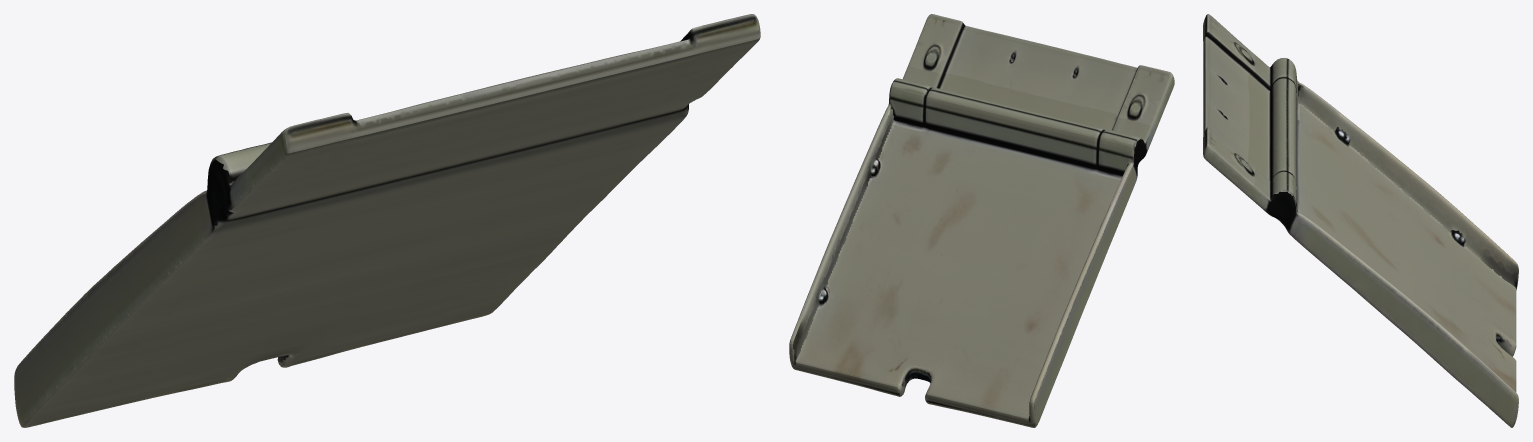
Rendered from roof-hatch.glb.
3 views of the same model, side by side, from view 1: azimuth 30°, elevation 25°; view 2: azimuth 150°, elevation 25°; view 3: azimuth 270°, elevation 25° (orthographic). The views are drawn at different scales.
Visible parts, largest first — view 1: tmpiy4xo0mq.ply; view 2: tmpiy4xo0mq.ply; view 3: tmpiy4xo0mq.ply.
Part boxes in pixels (x1,y1,x2,y2): tmpiy4xo0mq.ply: (14,14,760,427); tmpiy4xo0mq.ply: (789,14,1174,427); tmpiy4xo0mq.ply: (1203,14,1518,427).
Bounding box in the file's own units: 1 × 1 × 1.
Materials: 1 (1 with a texture image).
